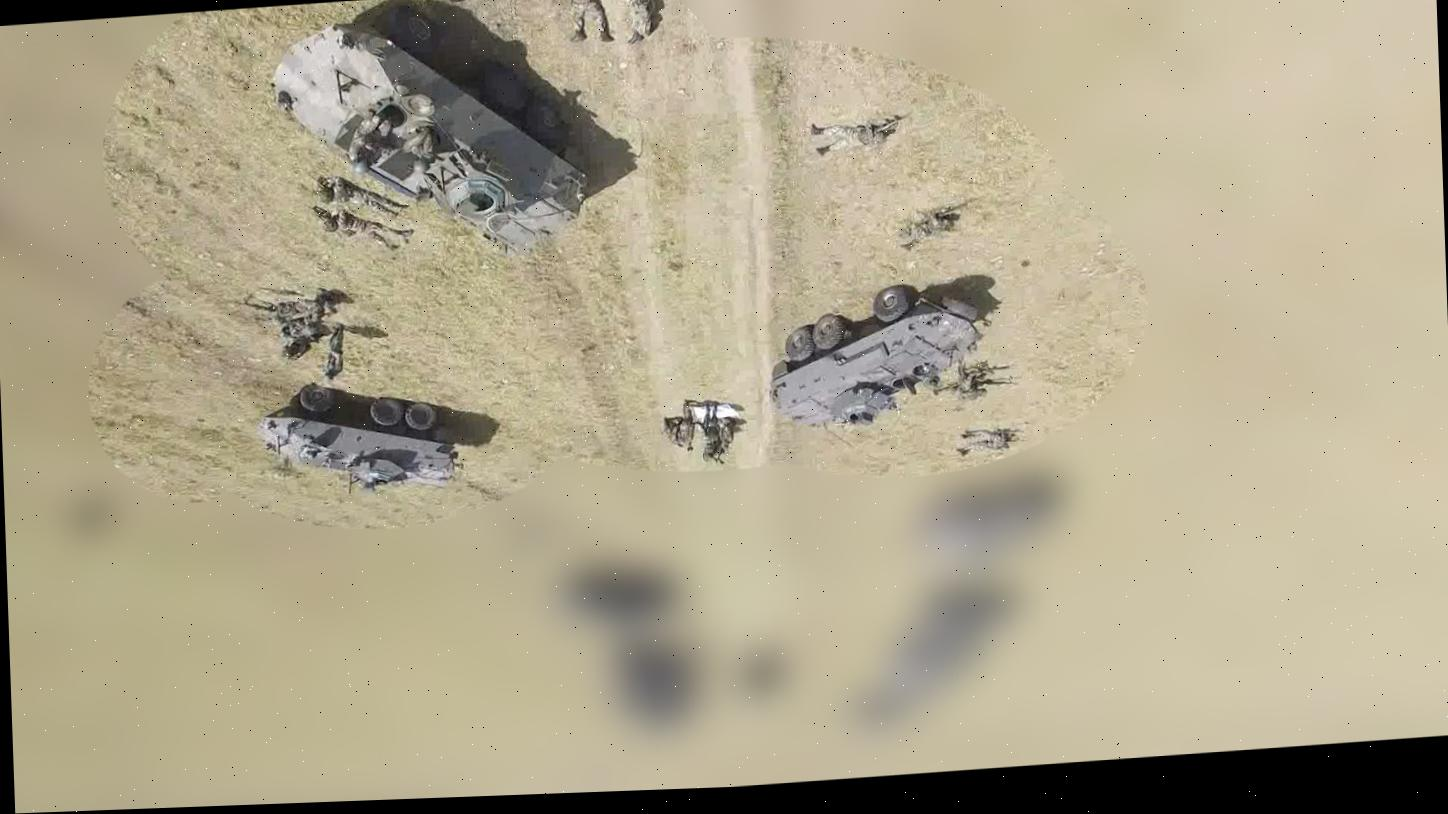armored_car: (267, 0, 598, 276), (767, 277, 989, 430), (254, 364, 462, 504)
